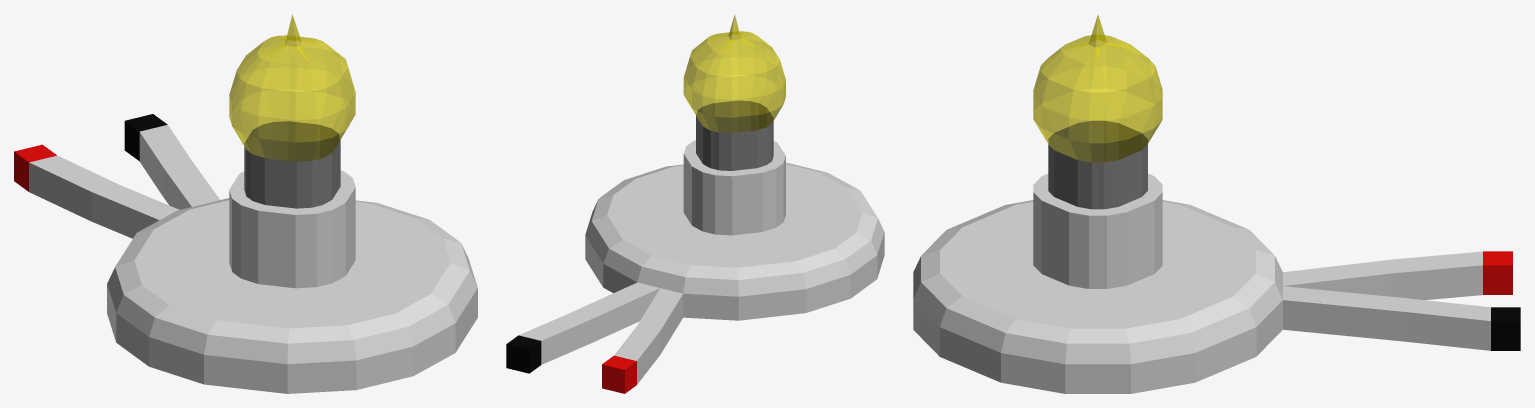
The picture shows the model from 3 angles, left to right: view 1: azimuth 30°, elevation 25°; view 2: azimuth 150°, elevation 25°; view 3: azimuth 270°, elevation 25°; orthographic projection. The views are drawn at different scales.
Parts seen in each view (by area): view 1: Cube; view 2: Cube; view 3: Cube.
Boxes of the visible parts, x1,y1,x2,y2 form: Cube: [14, 14, 477, 393]; Cube: [506, 14, 884, 393]; Cube: [913, 14, 1520, 393].
Size of the model in its own units: 2 by 3.29 by 1.8.
